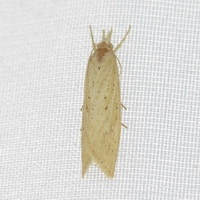insect: (81, 25, 130, 177)
